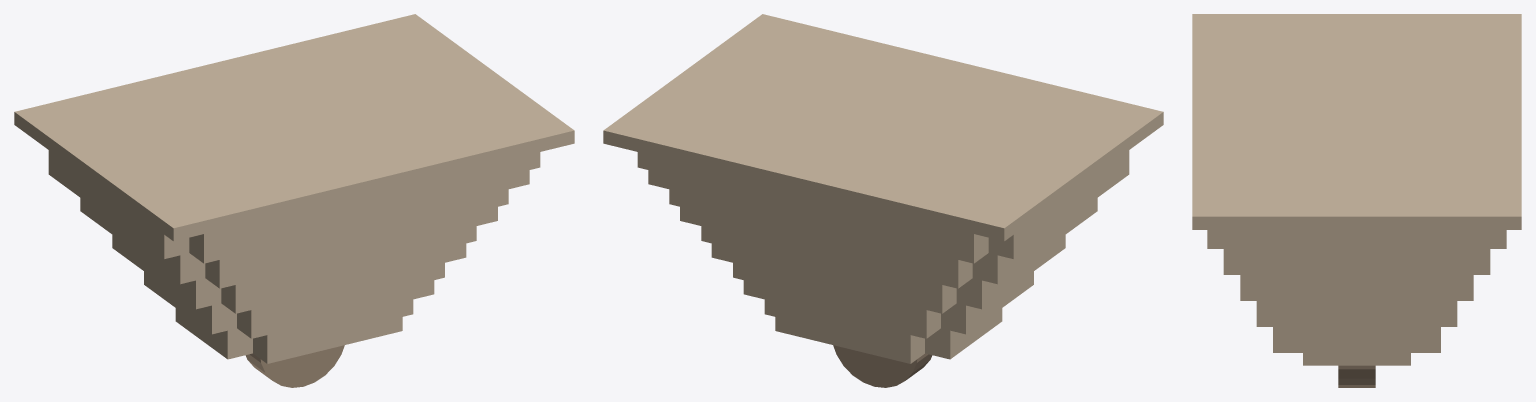
Rendered from rani-ki-vav.glb.
The picture shows the model from 3 angles, left to right: view 1: azimuth 30°, elevation 25°; view 2: azimuth 150°, elevation 25°; view 3: azimuth 270°, elevation 25°; orthographic projection. The views are drawn at different scales.
Visible parts, largest first — view 1: geometry_0, geometry_2, geometry_16, geometry_30, geometry_44, geometry_58, geometry_3, geometry_71, geometry_17, geometry_31, geometry_45, geometry_59; view 2: geometry_0, geometry_1, geometry_15, geometry_29, geometry_43, geometry_57, geometry_3, geometry_71, geometry_17, geometry_31, geometry_45, geometry_59; view 3: geometry_0, geometry_4, geometry_18, geometry_32, geometry_46, geometry_60, geometry_71, geometry_15, geometry_16, geometry_43, geometry_44, geometry_1 (+5 smaller).
Part boxes in pixels (x1,y1,x2,y2): geometry_0: [14, 14, 574, 241]; geometry_2: [189, 154, 529, 263]; geometry_16: [205, 192, 497, 288]; geometry_30: [221, 229, 466, 313]; geometry_44: [237, 265, 434, 338]; geometry_58: [253, 302, 402, 363]; geometry_3: [48, 150, 189, 258]; geometry_71: [245, 345, 344, 387]; geometry_17: [80, 198, 205, 284]; geometry_31: [112, 235, 221, 309]; geometry_45: [144, 271, 236, 334]; geometry_59: [175, 308, 252, 359]; geometry_0: [603, 14, 1163, 241]; geometry_1: [648, 154, 988, 263]; geometry_15: [680, 192, 972, 288]; geometry_29: [711, 229, 956, 313]; geometry_43: [743, 265, 940, 338]; geometry_57: [775, 302, 924, 363]; geometry_3: [988, 150, 1129, 258]; geometry_71: [833, 345, 932, 387]; geometry_17: [972, 198, 1097, 284]; geometry_31: [956, 235, 1065, 309]; geometry_45: [941, 271, 1033, 334]; geometry_59: [925, 308, 1002, 359]; geometry_0: [1192, 14, 1521, 229]; geometry_4: [1237, 230, 1476, 261]; geometry_18: [1253, 261, 1460, 287]; geometry_32: [1270, 287, 1443, 313]; geometry_46: [1286, 313, 1427, 339]; geometry_60: [1303, 339, 1410, 365]; geometry_71: [1338, 365, 1375, 387]; geometry_15: [1460, 249, 1490, 274]; geometry_16: [1223, 249, 1253, 274]; geometry_43: [1427, 301, 1457, 326]; geometry_44: [1256, 301, 1286, 326]; geometry_1: [1476, 230, 1506, 248].
Bounding box in the file's own units: 32 × 19.75 × 22.
